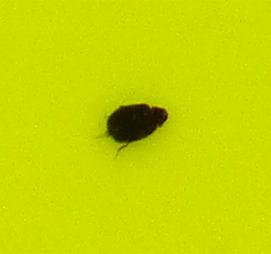Coleoptera: (100, 100, 171, 154)
